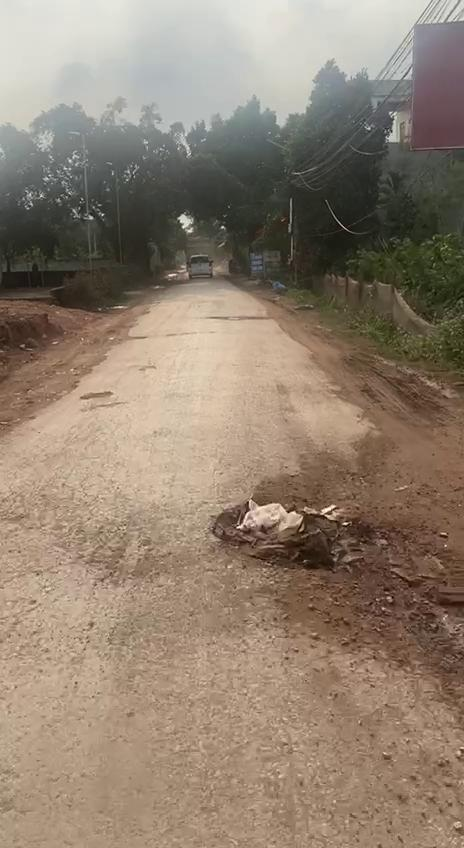pothole: (202, 498, 391, 574)
